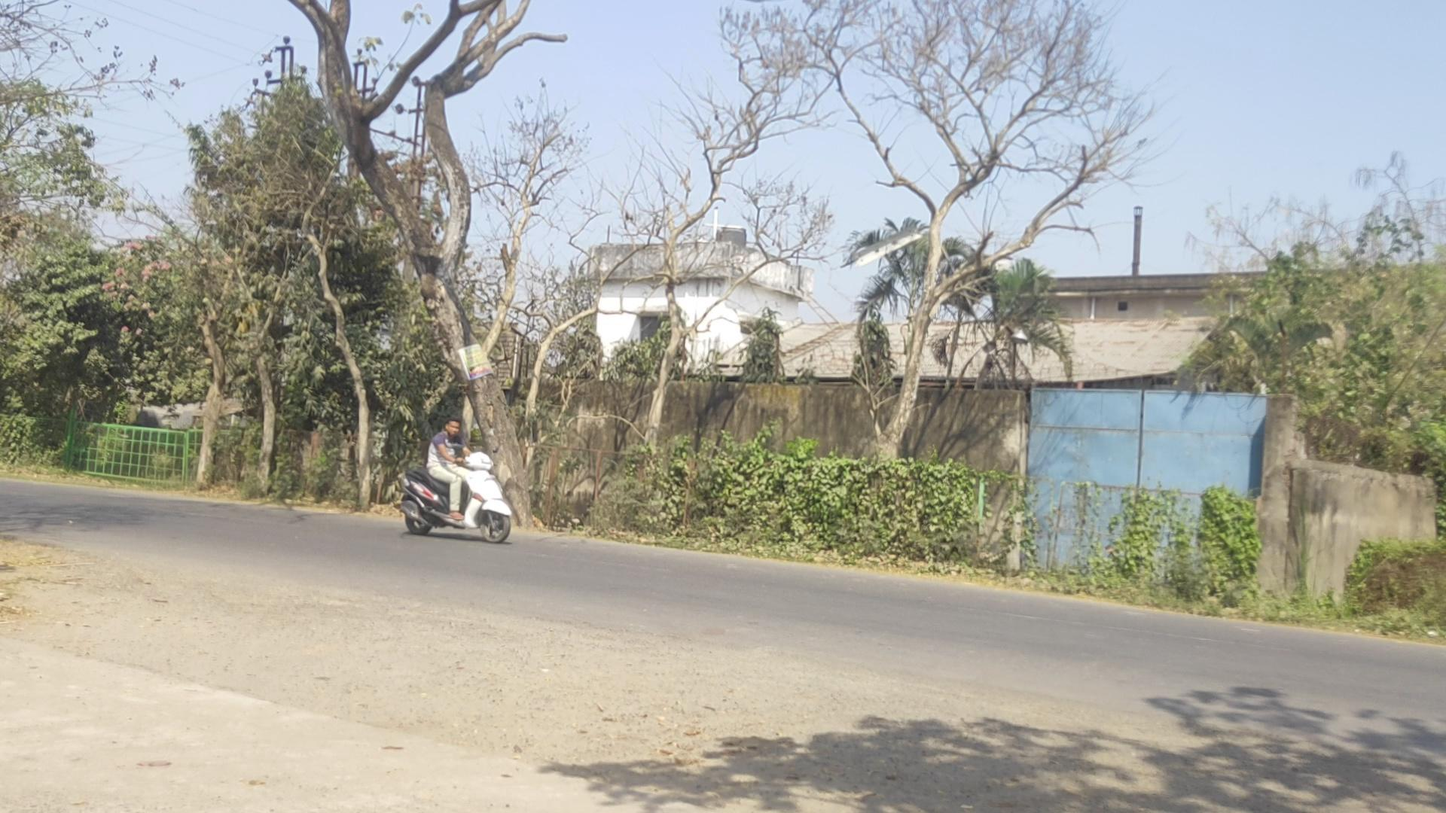bike: (397, 416, 511, 544)
